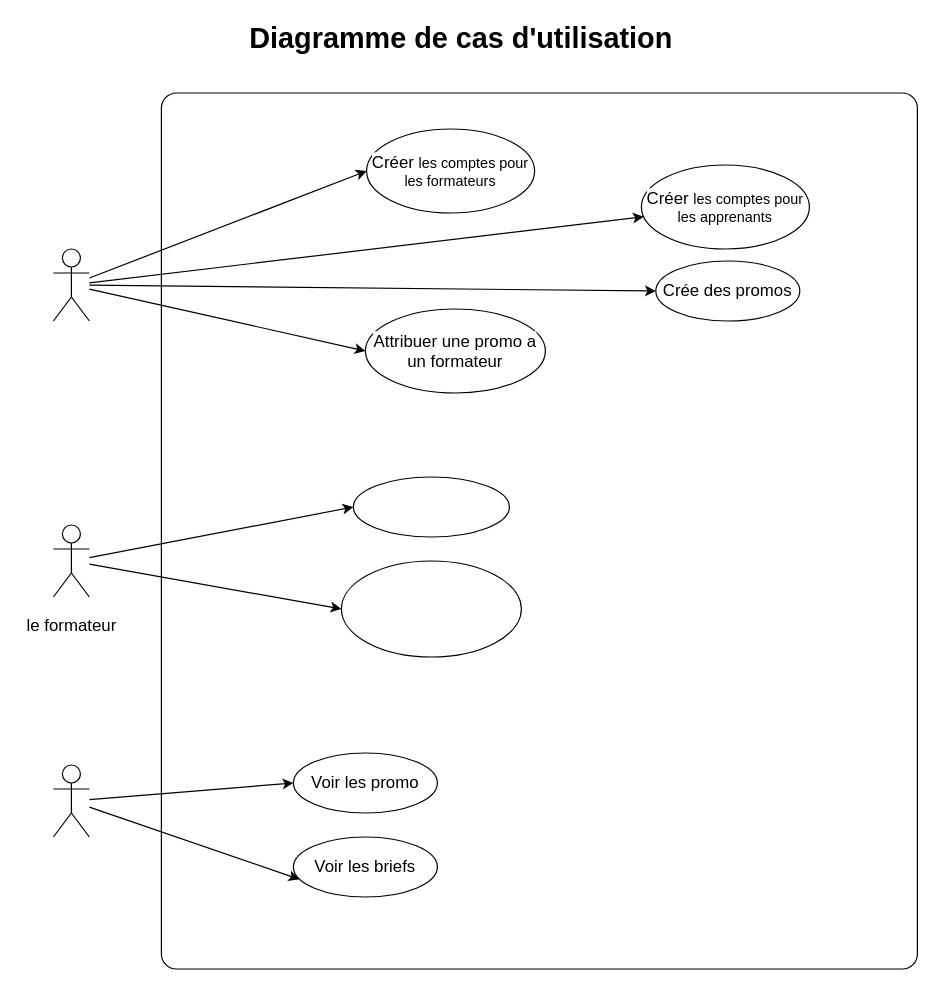
Image size: 938x990. Some labels were removed from this diagram. The shapes that lost their labels are listed below. From the top down, each one's centre as x and y in pixels, then its label:
[70,284]: L'administrateur
[430,506]: Créer des briefs
[430,608]: Distribuer un ou plusieurs briefs a la promo
[70,800]: L'apprenant
